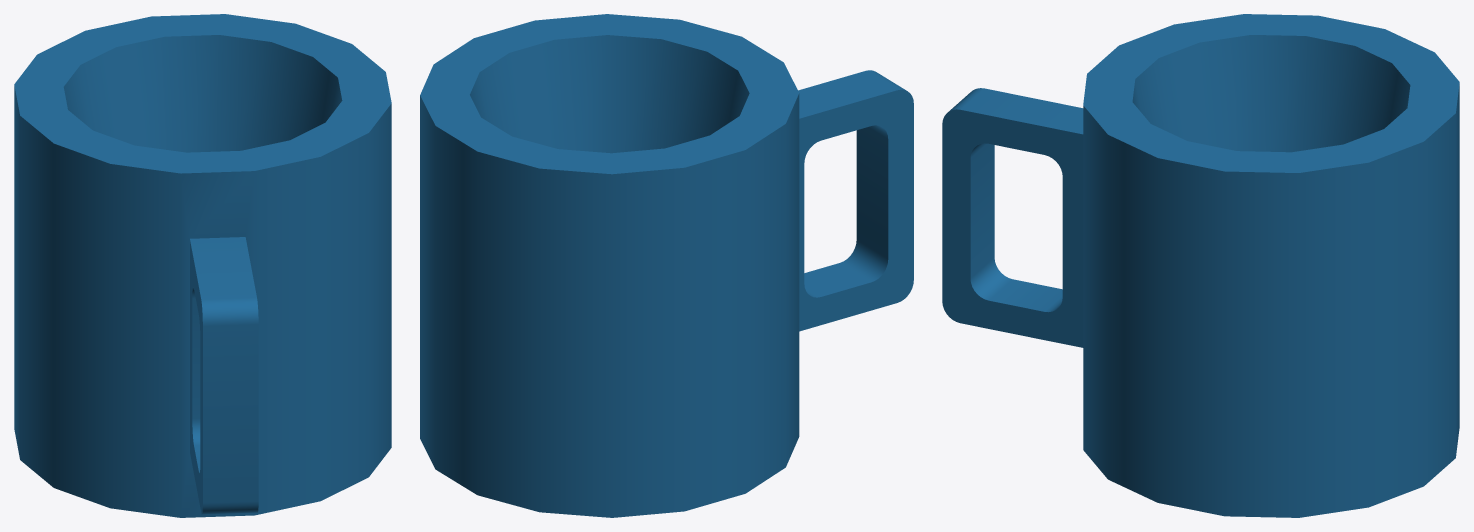
Rendered from Glass-5.fbx.
The picture shows the model from 3 angles, left to right: view 1: azimuth 30°, elevation 25°; view 2: azimuth 150°, elevation 25°; view 3: azimuth 270°, elevation 25°; orthographic projection.
Parts seen in each view (by area): view 1: Glass-5; view 2: Glass-5; view 3: Glass-5.
Boxes of the visible parts, x1=… form: Glass-5: x1=14, y1=14, x2=391, y2=517; Glass-5: x1=420, y1=14, x2=913, y2=517; Glass-5: x1=942, y1=14, x2=1459, y2=517.
Size of the model in its own units: 0.1124 by 0.1135 by 0.1544.
